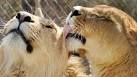lion: (64, 3, 137, 72), (1, 11, 66, 77)
